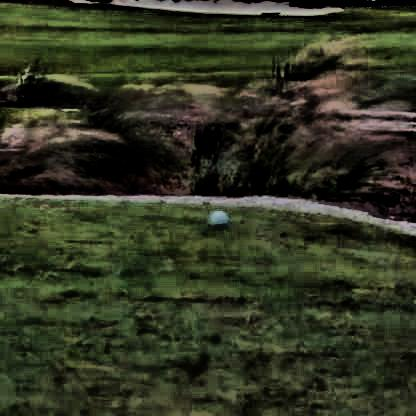golfball: (207, 207, 227, 227)
